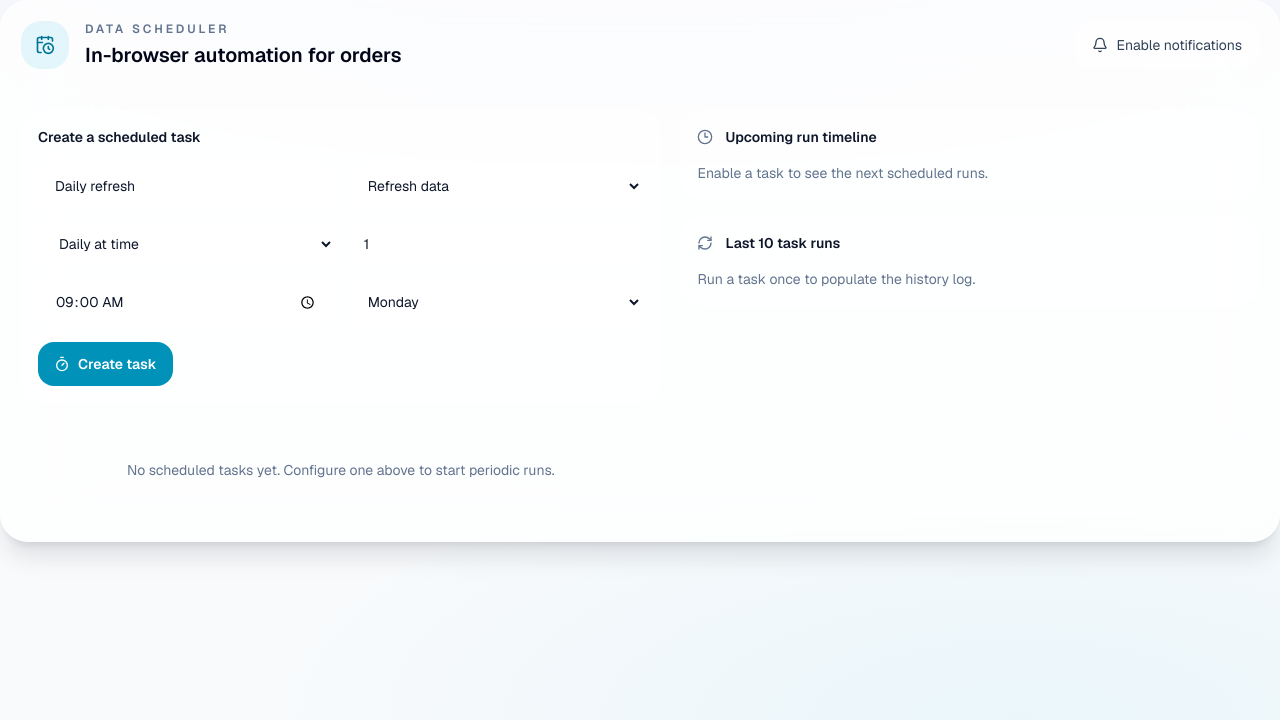
Test: DataScheduler › toggles a scheduled task off
This screenshot has width=1280, height=720.
Click the button "Create task" at coordinates (105, 364), box [38,342,172,386]
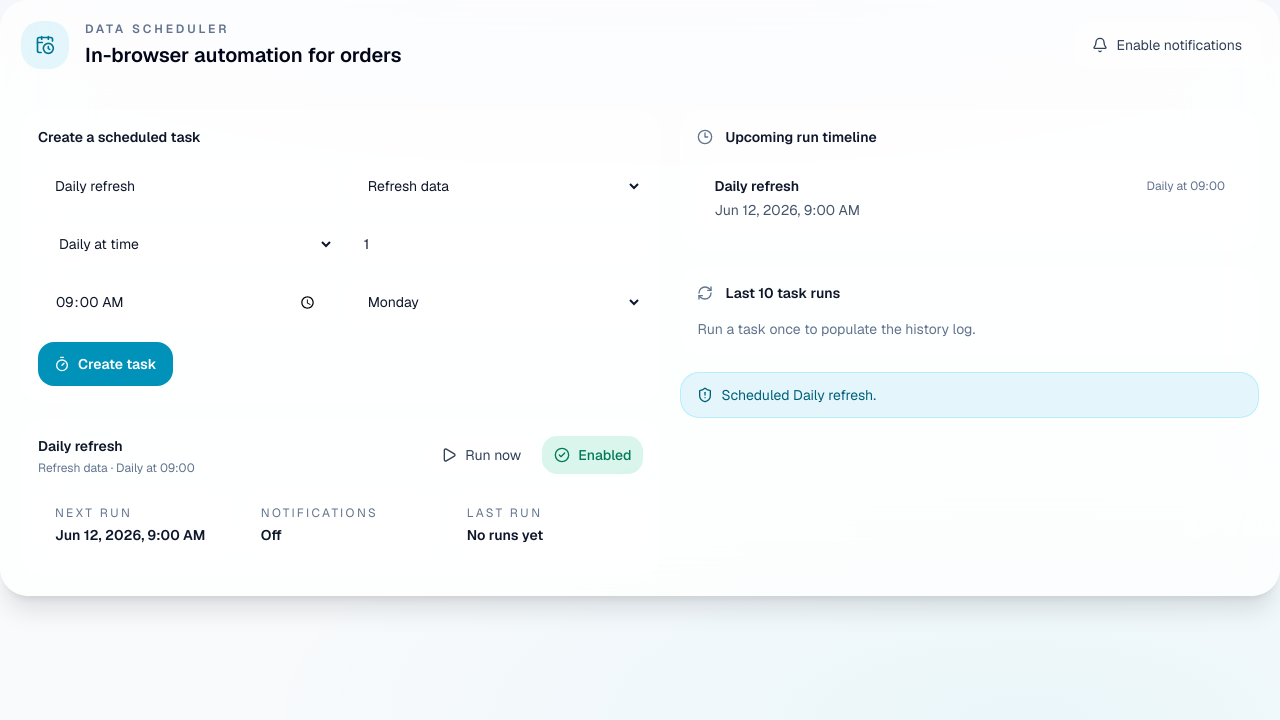
Click the button "Enabled" at coordinates (593, 455), box [542,436,644,474]
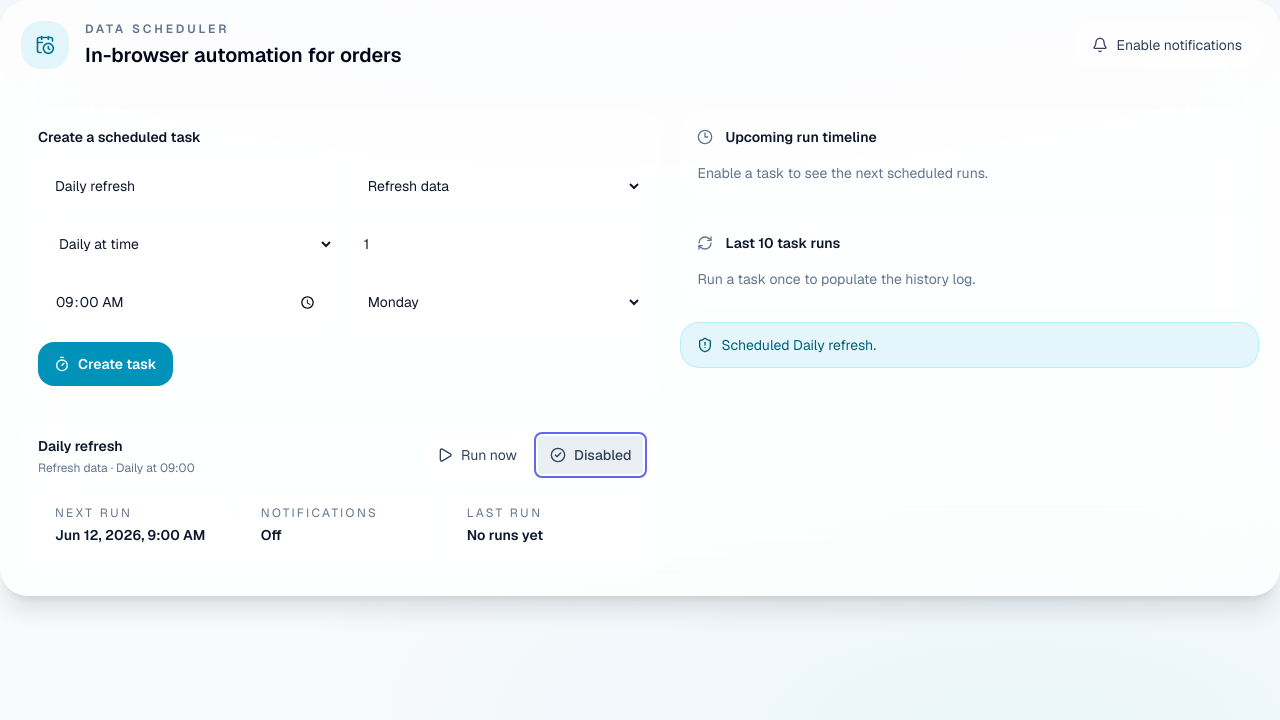
Result: the button "Disabled" is shown at [538,436,644,474]
